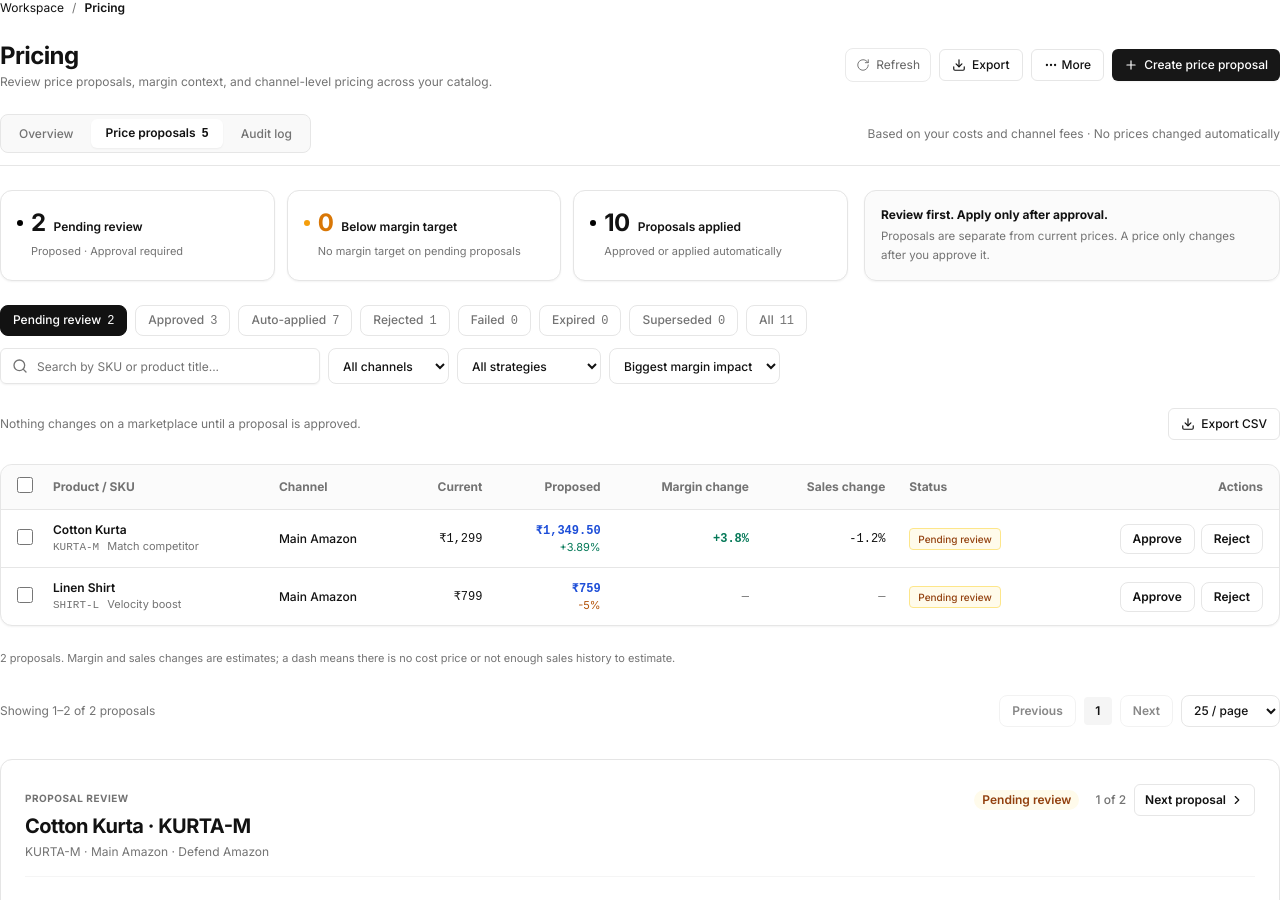
Test case: PricingPage proposals › rejects a proposal and keeps the dialog open with the reason when the API refuses
The image size is (1280, 900).
Click the button with aria-label "Reject KURTA-M" at (1232, 539), box x1=1201 y1=524 x2=1263 y2=554
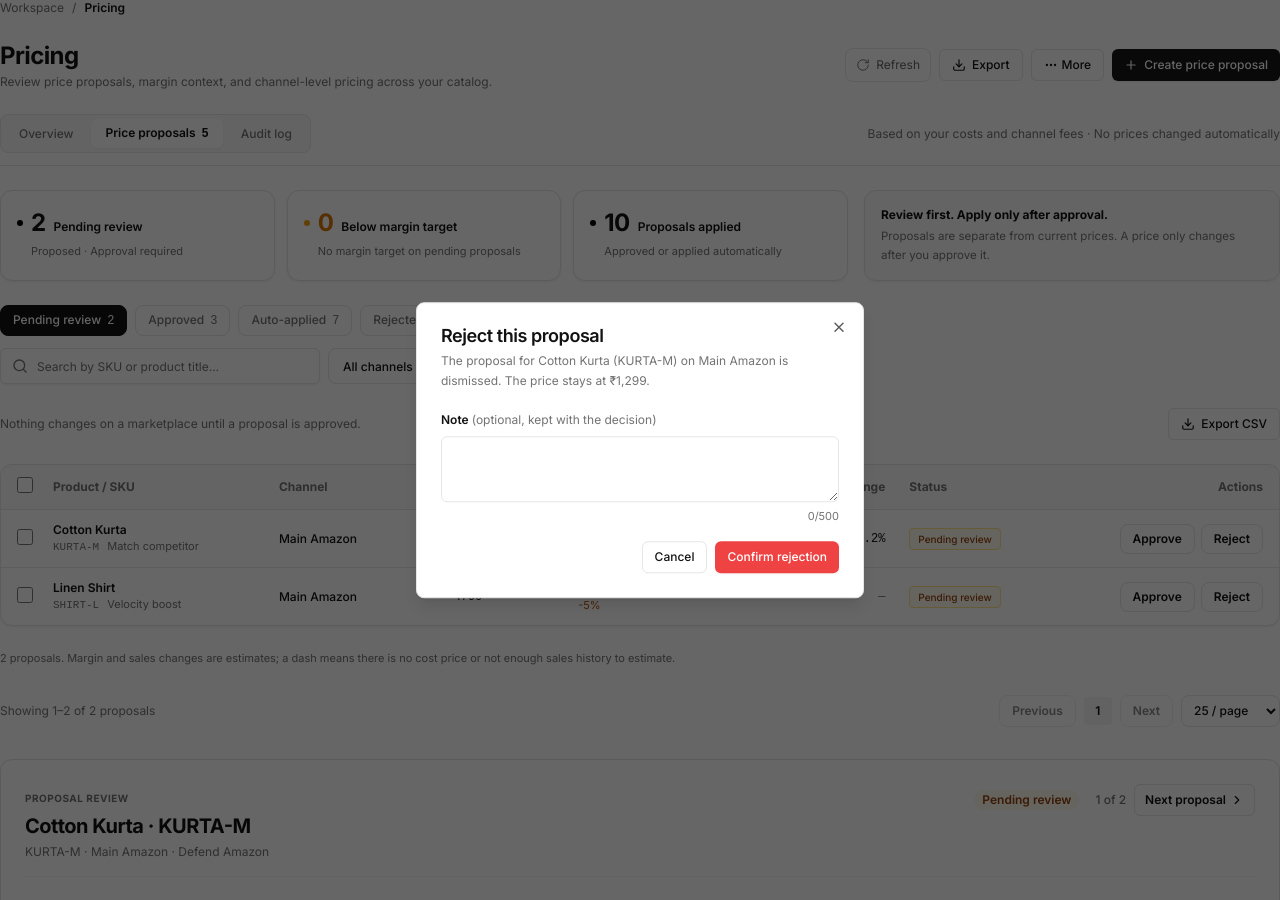
Click the button "Confirm rejection" at (777, 557), box x1=715 y1=541 x2=839 y2=573
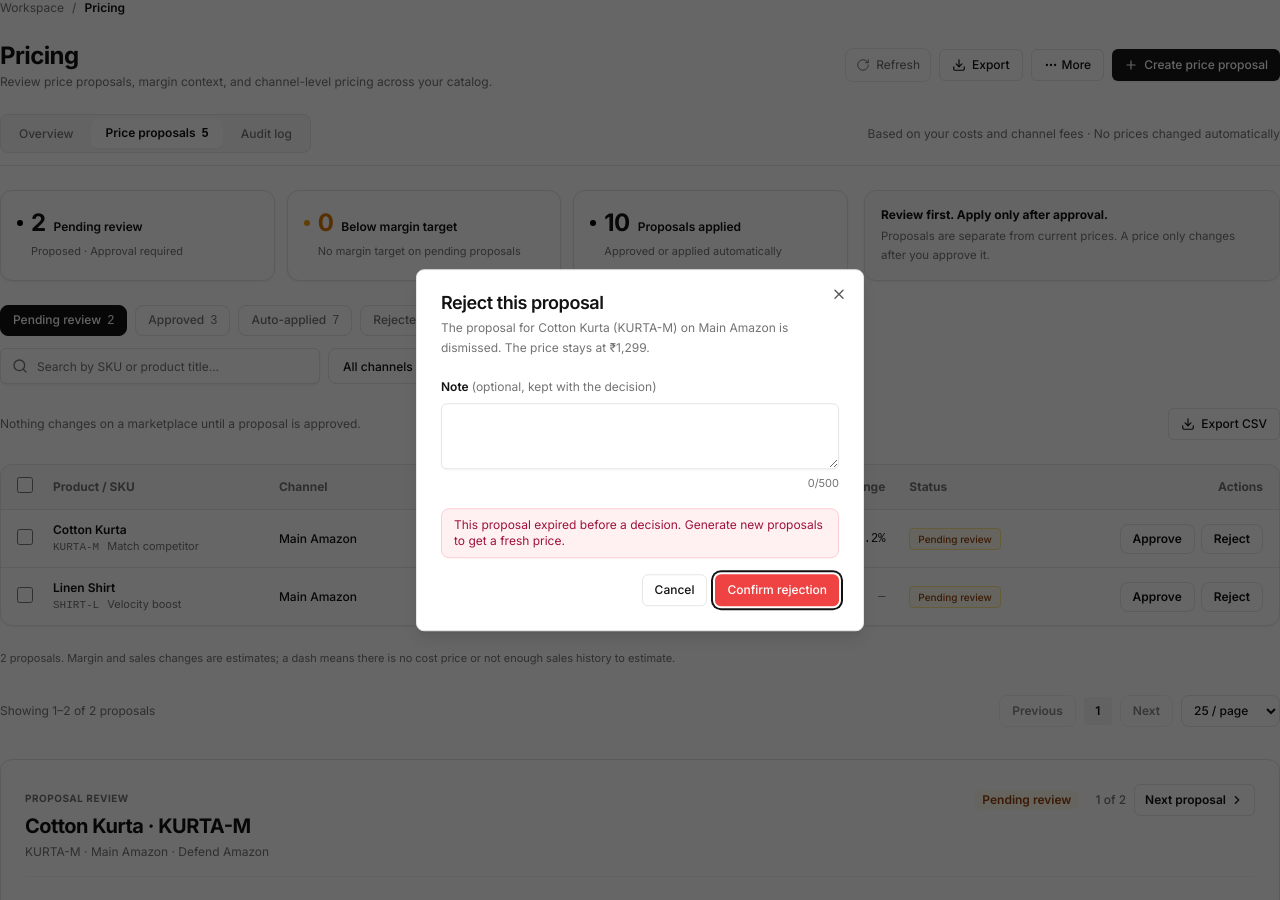
Expected: the dialog "Reject this proposal" is shown, x1=416 y1=269 x2=864 y2=631
Expected: the message shows "expired before a decision", x1=454 y1=517 x2=823 y2=548
